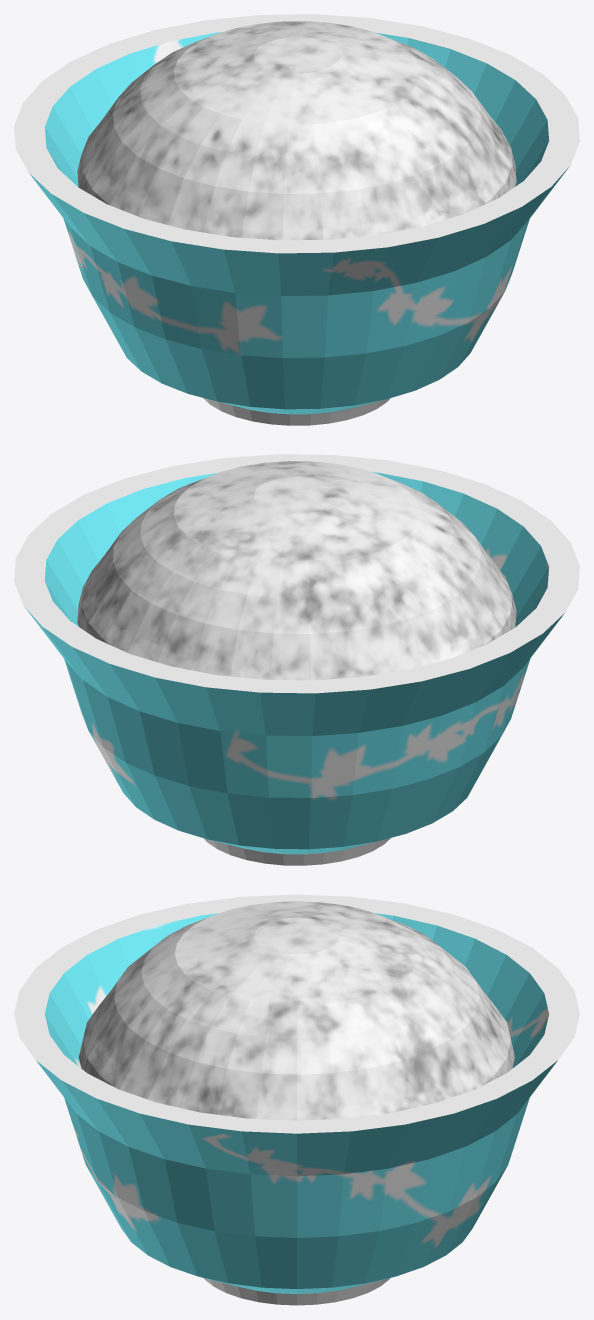
Rendered from race_1.fbx.
3 renders of one model, top to bottom at view 1: azimuth 30°, elevation 25°; view 2: azimuth 150°, elevation 25°; view 3: azimuth 270°, elevation 25°, orthographic.
Visible parts, largest first — view 1: 円柱; view 2: 円柱; view 3: 円柱.
Boxes of the visible parts, x1,y1,x2,y2 form: 円柱: [14, 14, 579, 425]; 円柱: [14, 454, 579, 865]; 円柱: [14, 894, 579, 1305].
Size of the model in its own units: 19.8 by 12.7 by 19.8.
Materials: 1 (1 with a texture image).
